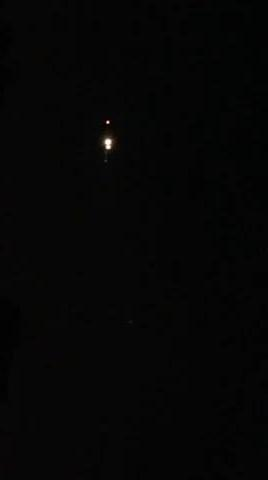Plane: (83, 92, 129, 182)
